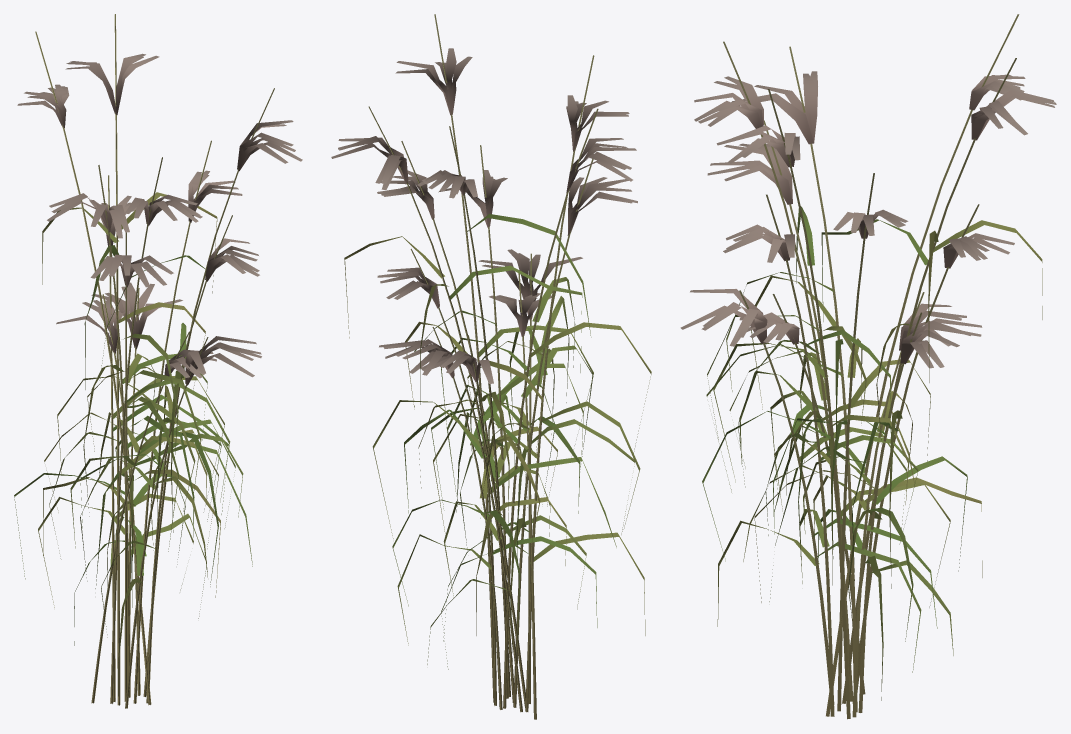
File: reed_1.glb
3 views of the same model, side by side, from view 1: azimuth 30°, elevation 25°; view 2: azimuth 150°, elevation 25°; view 3: azimuth 270°, elevation 25° (orthographic). The views are drawn at different scales.
Parts seen in each view (by area): view 1: reed_1; view 2: reed_1; view 3: reed_1.
Boxes of the visible parts, x1,y1,x2,y2 form: reed_1: [14, 14, 302, 708]; reed_1: [331, 14, 651, 719]; reed_1: [680, 14, 1056, 719].
Bounding box in the file's own units: 0.9062 × 2.24 × 1.11.
